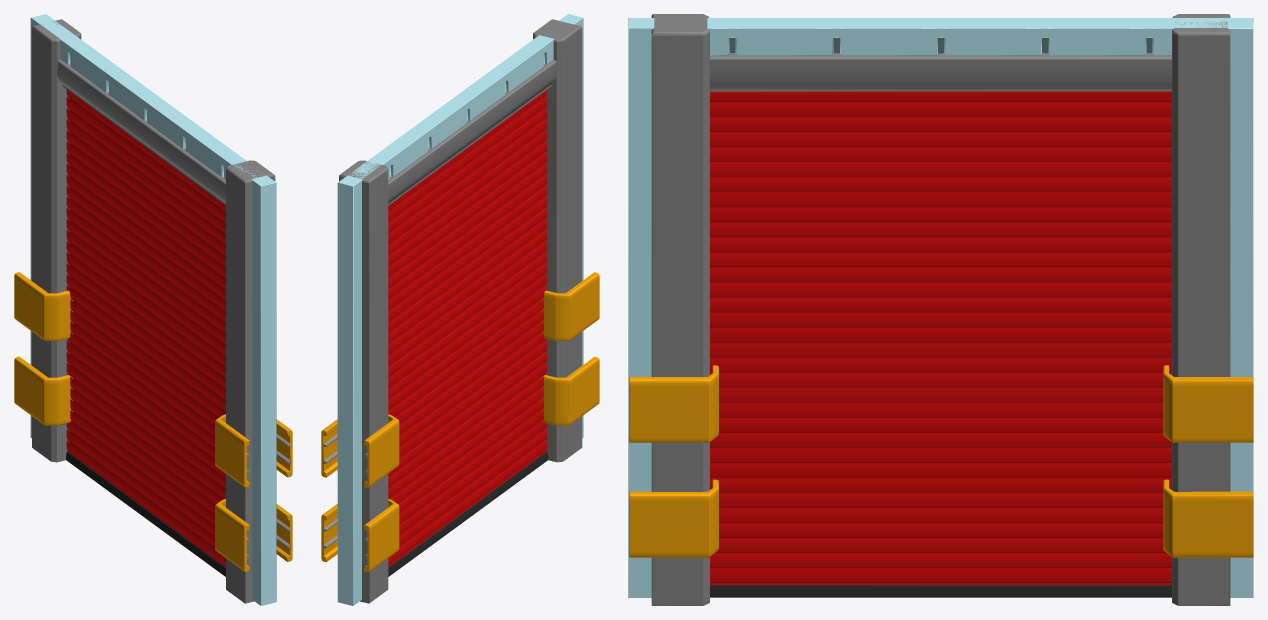
Rendered from Delivery_Doorframe.glb.
3 renders of one model, left to right at view 1: azimuth 30°, elevation 25°; view 2: azimuth 150°, elevation 25°; view 3: azimuth 270°, elevation 25°, orthographic. The views are drawn at different scales.
Visible parts, largest first — view 1: Doorframe_Delivery.001, Doorframe_Delivery; view 2: Doorframe_Delivery.001, Doorframe_Delivery; view 3: Doorframe_Delivery.001, Doorframe_Delivery.
Boxes of the visible parts, x1,y1,x2,y2 form: Doorframe_Delivery.001: [66, 89, 225, 567]; Doorframe_Delivery: [14, 14, 292, 605]; Doorframe_Delivery.001: [388, 90, 547, 566]; Doorframe_Delivery: [321, 14, 599, 605]; Doorframe_Delivery.001: [710, 91, 1171, 584]; Doorframe_Delivery: [628, 14, 1253, 605].
Size of the model in its own units: 0.4861 by 4.04 by 4.
2 materials, 2 textured.
